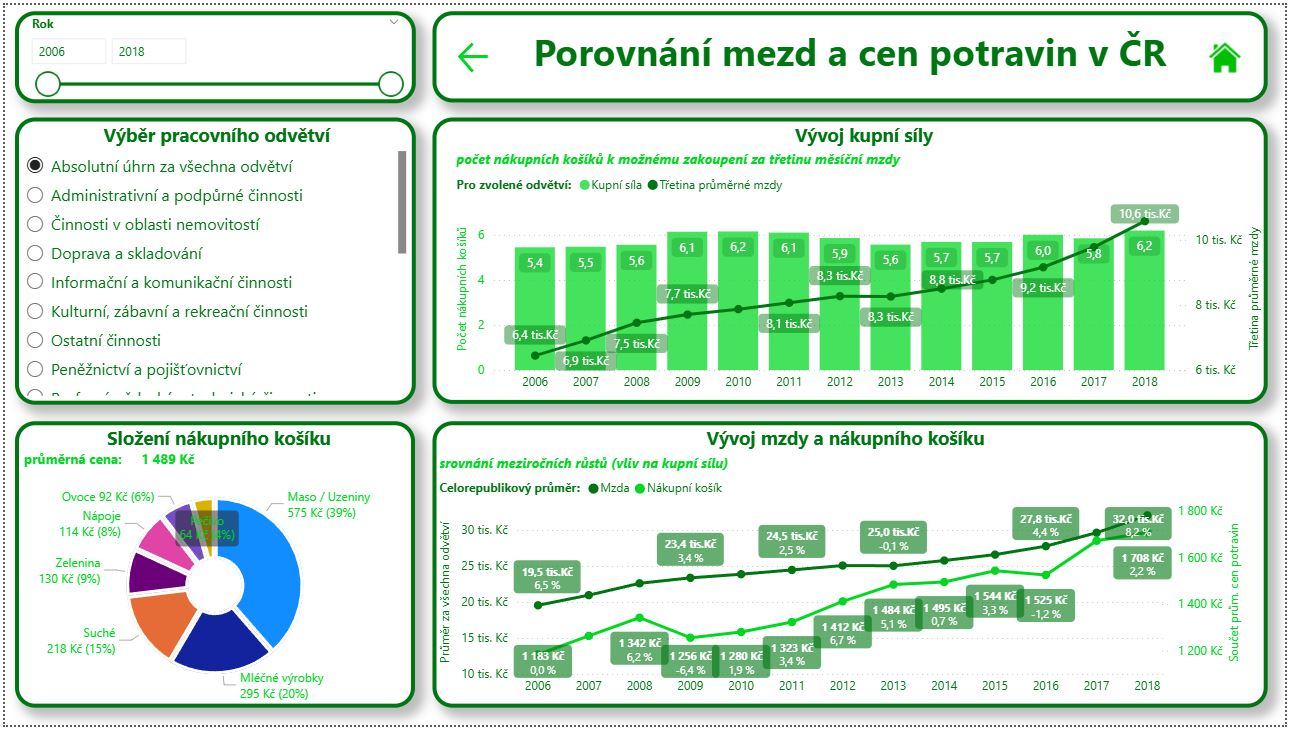

Layout of this report page (visuals, bound fields, positions):
{"tool":"powerbi","page":{"name":"Porovnání","canvas":[1280,720],"ordinal":3},"visuals":[{"type":"lineChart","title":"Vývoj mzdy a nákupního košíku","fields":{"Category":["Kalendar.Date.Variace.Hierarchie dat.Rok"],"Y":["Avg(Mzdy.prum_mzda)"],"Y2":["Potraviny.Kosik_CR"]},"box":[427.5,416.2,835,286.2],"z":0},{"type":"lineStackedColumnComboChart","title":"Vývoj kupní síly","fields":{"Category":["Kalendar.Date.Variace.Hierarchie dat.Rok"],"Y":["Potraviny.Kupni_sila"],"Y2":["Mzdy.Tretina_prum_mzdy"]},"box":[427.5,112.5,835,286.2],"z":1000},{"type":"slicer","title":"Výběr pracovního odvětví","fields":{"Values":["Mzdy_Odvetvi.nazev_odvetvi"]},"box":[9.7,112.2,400.5,287.1],"z":2000},{"type":"donutChart","title":"Složení nákupního košíku","fields":{"Y":["Potraviny.Kosik_CR"],"Category":["Potraviny_Kategorie.Druh_kategorie"]},"box":[10,416.2,400,286.2],"z":3000},{"type":"textbox","box":[427.5,6.2,835,91.2],"z":4000},{"type":"card","fields":{"Values":["Potraviny.Kosik_CR"]},"box":[116.2,441.2,93.8,25],"z":5000},{"type":"slicer","title":"Rok","fields":{"Values":["Kalendar.Rok"]},"box":[9.7,6,400.5,91.7],"z":6000},{"type":"actionButton","box":[1193.8,26.2,55,52.5],"z":7000},{"type":"actionButton","box":[448.8,32.5,45,40],"z":8000}]}

Visuals, with their boxes in screenshot pixels (x1, y1, x2, y2), scaled from the page's 1280x720 canvas onto the 1290x730 screenshot:
"Vývoj mzdy a nákupního košíku" lineChart: crop(431, 422, 1272, 712)
"Vývoj kupní síly" lineStackedColumnComboChart: crop(431, 114, 1272, 404)
"Výběr pracovního odvětví" slicer: crop(10, 114, 413, 405)
"Složení nákupního košíku" donutChart: crop(10, 422, 413, 712)
textbox: crop(431, 6, 1272, 99)
card - Potraviny.Kosik_CR: crop(117, 447, 212, 473)
"Rok" slicer: crop(10, 6, 413, 99)
actionButton: crop(1203, 27, 1259, 80)
actionButton: crop(452, 33, 498, 74)
